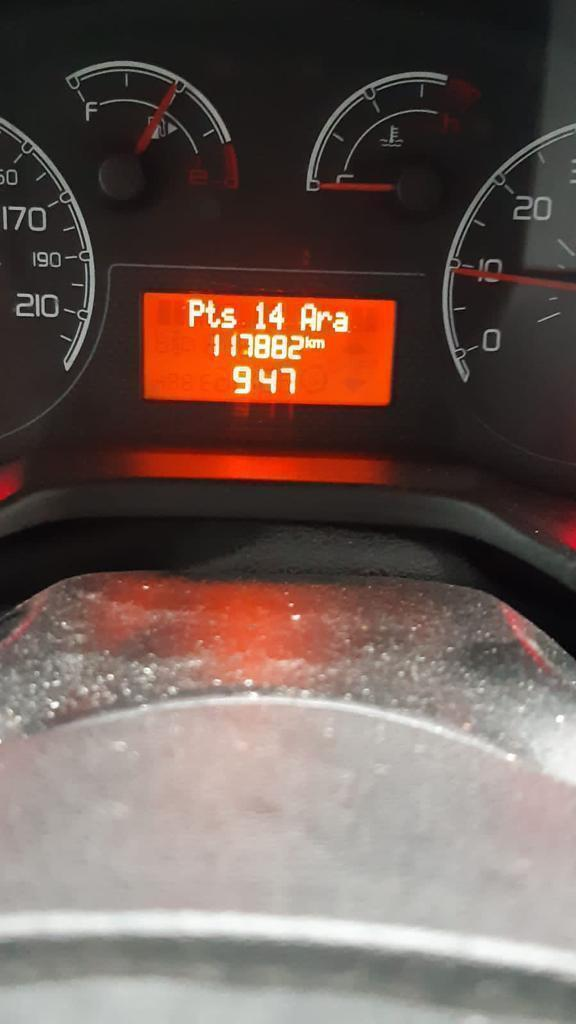1: (253, 299, 268, 330), (210, 331, 221, 360), (227, 333, 238, 359)
2: (287, 332, 304, 361)
4: (269, 299, 289, 330), (257, 366, 276, 397)
7: (280, 365, 297, 395), (239, 332, 253, 358)
8: (253, 332, 270, 359), (271, 333, 287, 360)
9: (231, 363, 251, 395)
X: (203, 297, 220, 328), (187, 298, 204, 328), (300, 301, 316, 332), (332, 308, 350, 334), (316, 307, 332, 332), (221, 305, 237, 328), (312, 337, 326, 349), (305, 334, 312, 348)
odometer: (135, 283, 406, 416)
